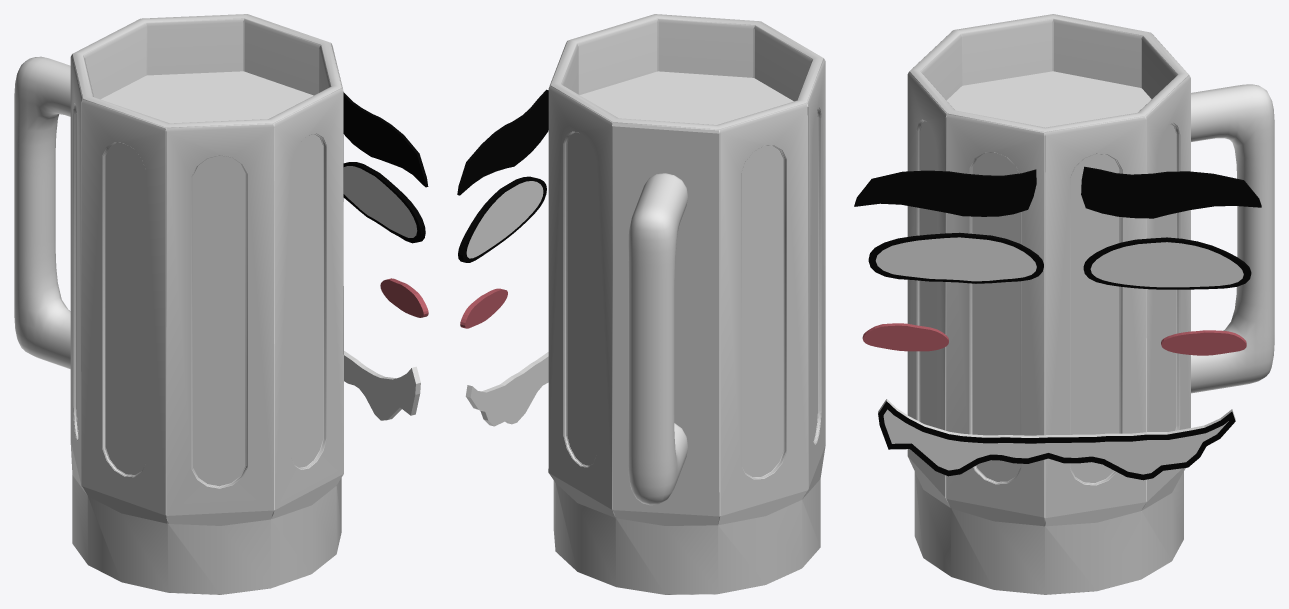
The model's file is Beer mug.fbx.
3 renders of one model, left to right at view 1: azimuth 30°, elevation 25°; view 2: azimuth 150°, elevation 25°; view 3: azimuth 270°, elevation 25°, orthographic.
Parts seen in each view (by area): view 1: Cylinder.001, Cube, Plane.001, Cylinder; view 2: Cylinder.001, Cube, Plane.001, Cylinder; view 3: Cylinder.001, Plane.001, Cube, Cylinder.
Part boxes in pixels (<box>): Cylinder.001: <box>70,14,343,594</box>; Cube: <box>14,56,70,369</box>; Plane.001: <box>343,92,428,420</box>; Cylinder: <box>101,71,313,123</box>; Cylinder.001: <box>548,14,825,594</box>; Cube: <box>628,173,688,505</box>; Plane.001: <box>457,89,548,426</box>; Cylinder: <box>580,71,793,124</box>; Cylinder.001: <box>907,14,1190,594</box>; Plane.001: <box>854,166,1261,480</box>; Cube: <box>1191,84,1274,393</box>; Cylinder: <box>946,71,1151,127</box>.
Size of the model in its own units: 305 by 544 by 444.
